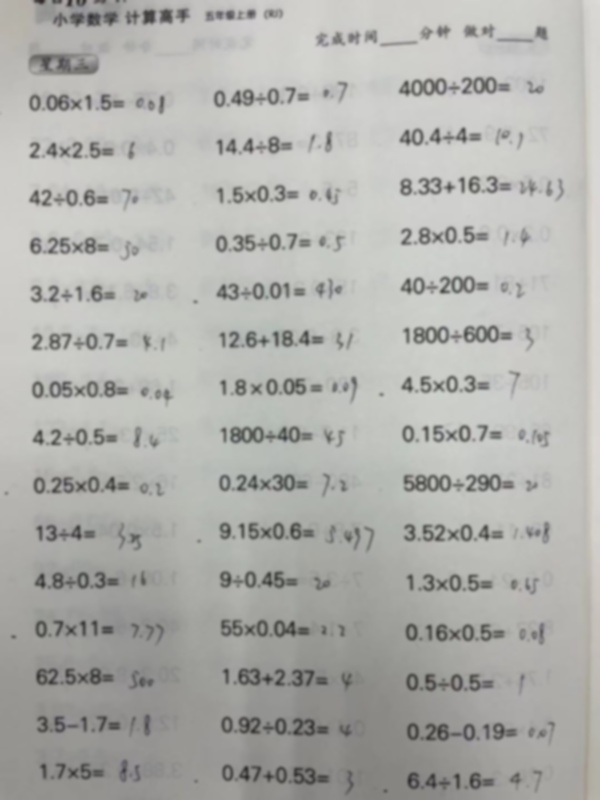equation: (214, 517, 376, 551), (216, 373, 360, 408), (217, 761, 356, 797), (398, 421, 553, 453), (395, 171, 566, 200), (29, 424, 162, 459), (398, 367, 523, 403), (403, 718, 558, 747), (400, 619, 549, 649), (400, 518, 553, 547), (31, 616, 163, 649), (398, 318, 537, 349), (27, 376, 175, 405), (215, 470, 351, 501), (402, 570, 542, 600), (28, 328, 168, 357), (394, 72, 544, 99), (396, 221, 533, 250), (209, 79, 349, 107), (403, 768, 544, 795), (395, 121, 525, 150), (217, 663, 355, 690), (24, 89, 167, 115), (212, 274, 344, 302), (35, 521, 150, 553), (215, 325, 355, 351), (32, 710, 152, 740), (27, 281, 151, 310), (28, 471, 166, 497), (216, 567, 335, 597), (395, 271, 527, 298), (212, 229, 348, 255), (25, 185, 139, 216), (401, 669, 527, 697), (399, 469, 540, 494), (216, 713, 354, 738), (211, 128, 334, 156), (215, 421, 347, 447), (26, 233, 144, 262), (212, 180, 343, 206), (32, 664, 154, 691), (33, 759, 149, 787), (216, 615, 347, 639), (25, 138, 141, 163), (30, 567, 148, 591)
